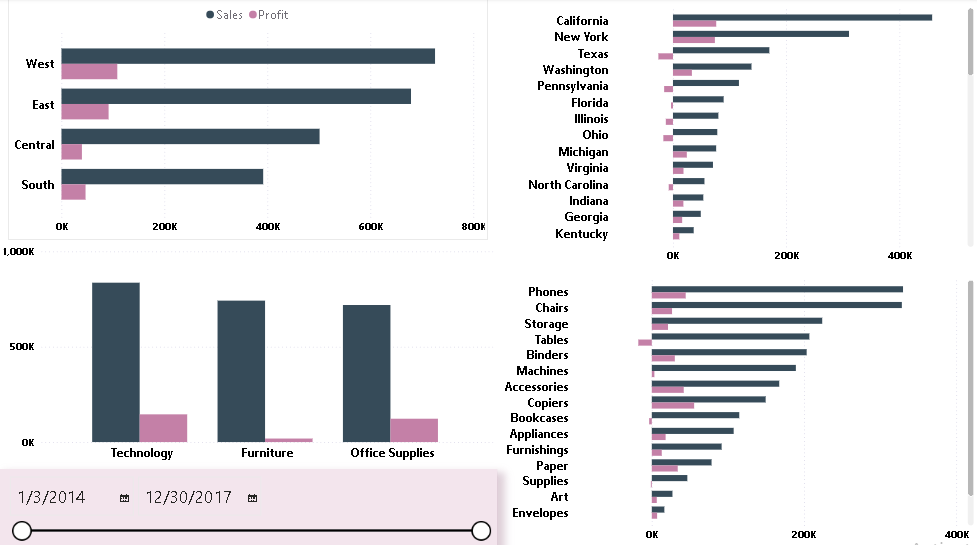

The page's visual inventory and layout, read from the dashboard file:
{"tool":"powerbi","page":{"name":"Sales Performance","canvas":[1280,720],"ordinal":1},"visuals":[{"type":"clusteredBarChart","fields":{"Category":["retail address.region"],"Y":["Sum(retail order_details.sales)","Sum(retail order_details.profit)"]},"box":[10.1,0,629.3,316.8],"z":0},{"type":"clusteredBarChart","fields":{"Y":["Sum(retail order_details.sales)","Sum(retail order_details.profit)"],"Category":["retail address.state"]},"box":[639.4,0,640.8,355.7],"z":1},{"type":"clusteredColumnChart","fields":{"Category":["retail product.category"],"Y":["Sum(retail order_details.sales)","Sum(retail order_details.profit)"]},"box":[0,316.8,650.9,299.5],"z":2},{"type":"clusteredBarChart","fields":{"Y":["Sum(retail order_details.sales)","Sum(retail order_details.profit)"],"Category":["retail product.sub_category"]},"box":[650.9,355.7,629.3,364.3],"z":3},{"type":"slicer","fields":{"Values":["retail order_.order_date"]},"box":[0,616.3,650.9,103.7],"z":4}]}

Visuals, with their boxes in screenshot pixels (x1, y1, x2, y2), scaled from the page's 1280x720 canvas onto the 977x545 screenshot:
clusteredBarChart - retail address.region x Sum(retail order_details.sales): (x1=8, y1=0, x2=488, y2=240)
clusteredBarChart - Sum(retail order_details.sales) x Sum(retail order_details.profit): (x1=488, y1=0, x2=976, y2=269)
clusteredColumnChart - retail product.category x Sum(retail order_details.sales): (x1=0, y1=240, x2=497, y2=467)
clusteredBarChart - Sum(retail order_details.sales) x Sum(retail order_details.profit): (x1=497, y1=269, x2=976, y2=544)
slicer - retail order_.order_date: (x1=0, y1=467, x2=497, y2=544)
